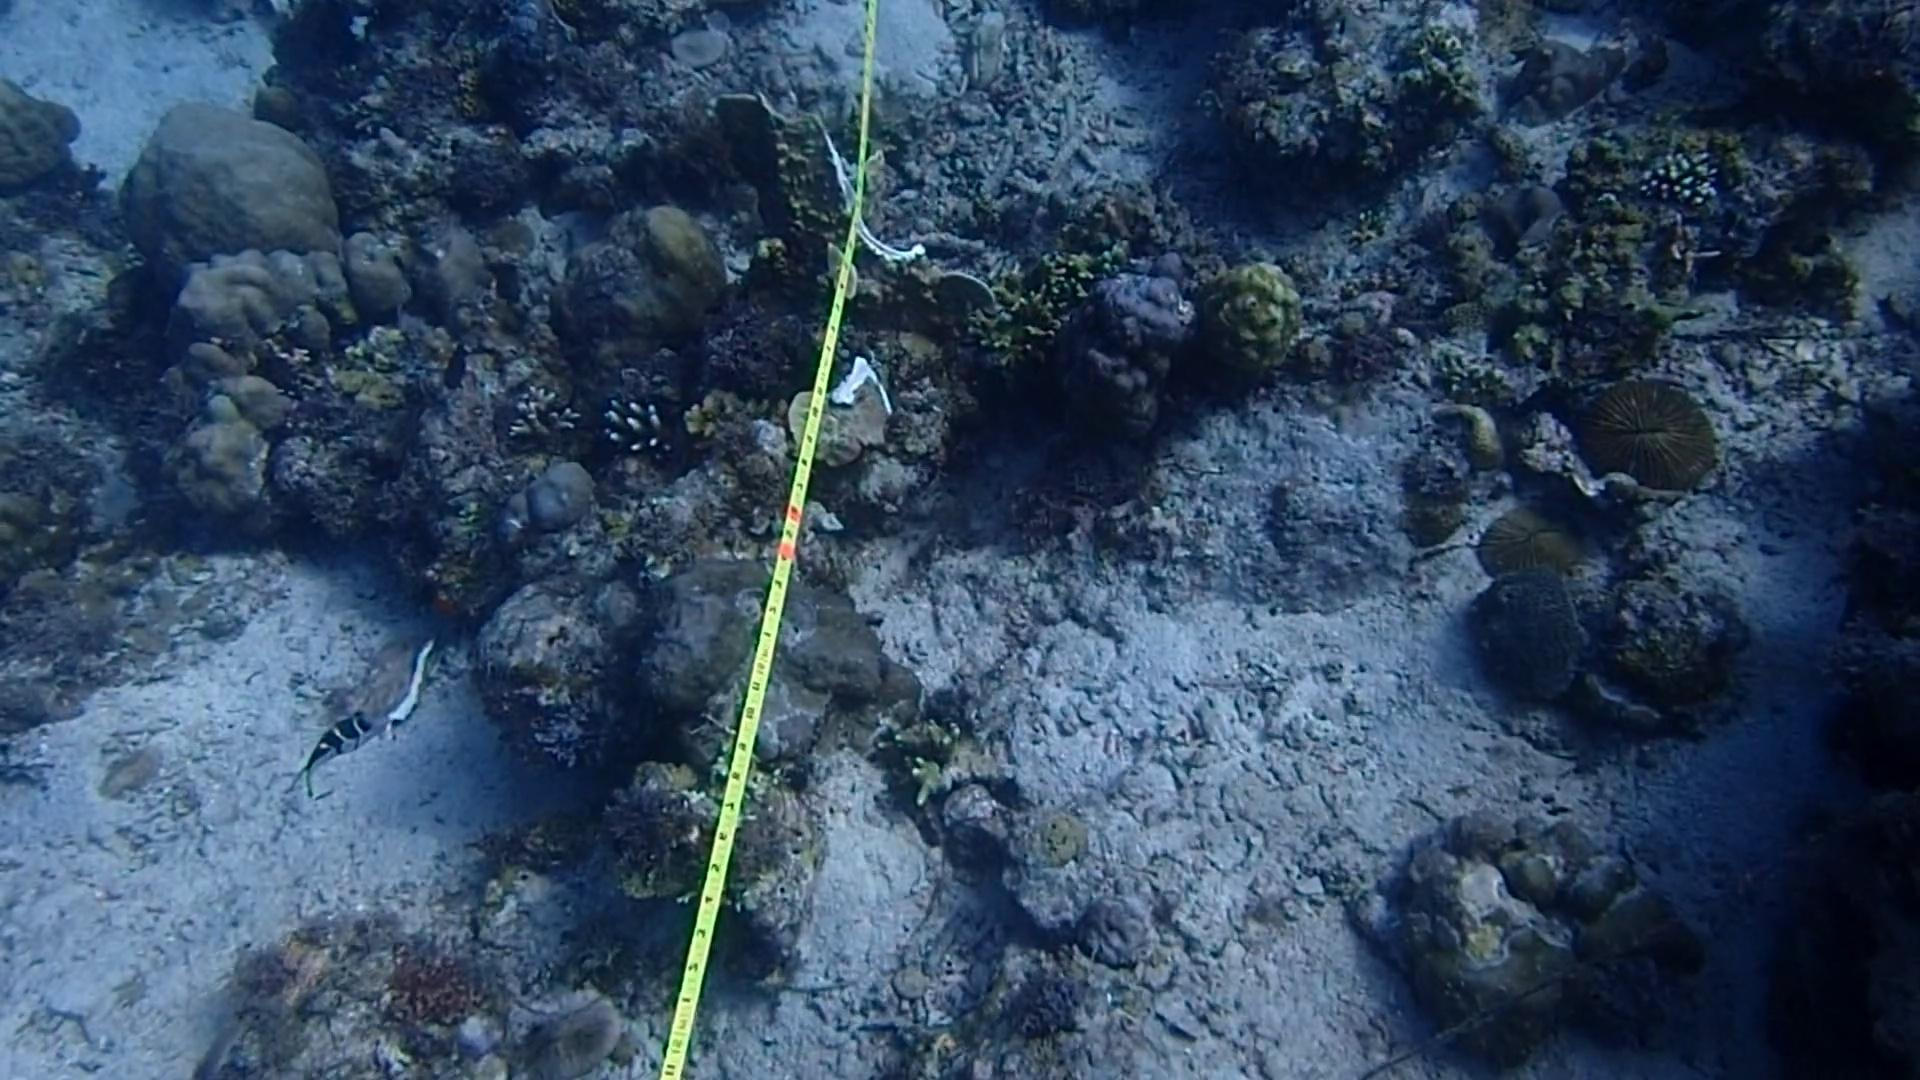Striped Fish: (293, 705, 375, 793)
